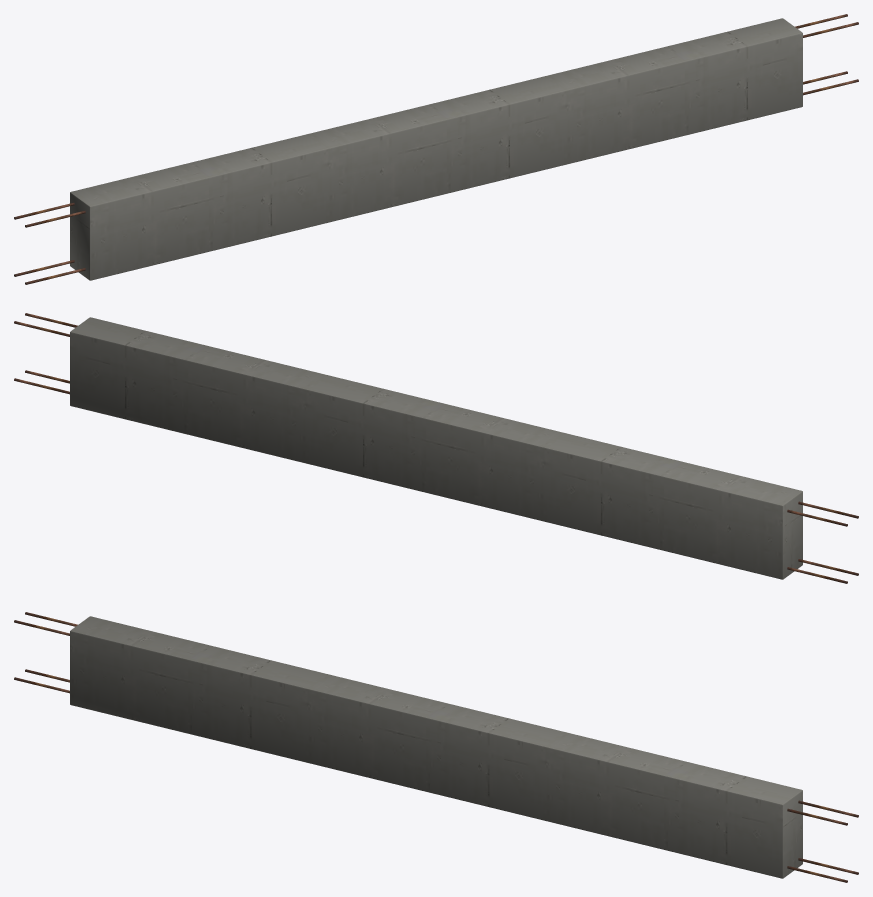
The model's file is FUN-VBA-001_lod1.glb.
The picture shows the model from 3 angles, top to bottom: view 1: azimuth 30°, elevation 25°; view 2: azimuth 150°, elevation 25°; view 3: azimuth 330°, elevation 25°; orthographic projection.
Visible parts, largest first — view 1: FUN-VBA-001_viga; view 2: FUN-VBA-001_viga; view 3: FUN-VBA-001_viga.
Boxes of the visible parts, x1=… form: FUN-VBA-001_viga: x1=70, y1=18, x2=802, y2=280; FUN-VBA-001_viga: x1=70, y1=317, x2=802, y2=579; FUN-VBA-001_viga: x1=70, y1=616, x2=802, y2=878.
Size of the model in its own units: 3.5 by 0.2999 by 0.15.
Materials: 2 (2 with a texture image).
